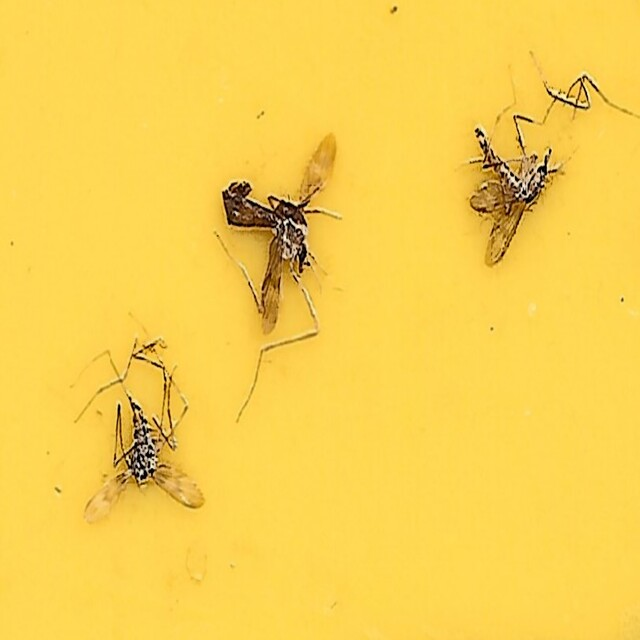Nematocera: (221, 136, 343, 333), (79, 394, 200, 522), (467, 118, 561, 267)
